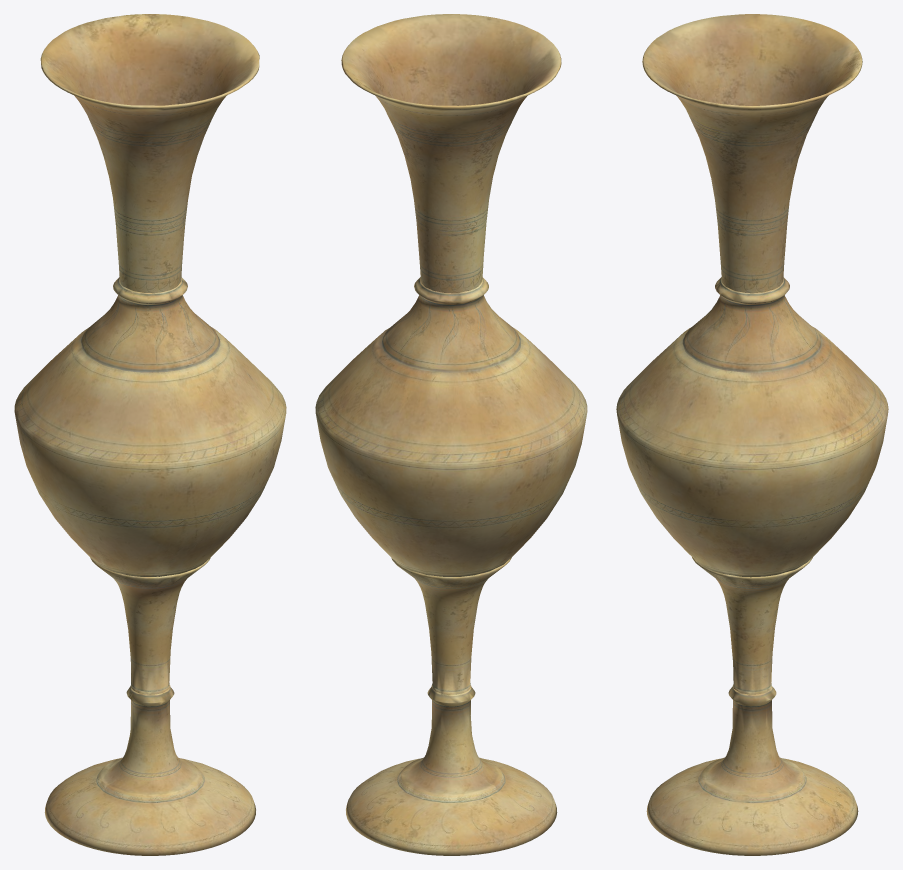
File: brass_vase_01.glb
3 views of the same model, side by side, from view 1: azimuth 30°, elevation 25°; view 2: azimuth 150°, elevation 25°; view 3: azimuth 270°, elevation 25° (orthographic).
Parts seen in each view (by area): view 1: brass_vase_01; view 2: brass_vase_01; view 3: brass_vase_01.
Boxes of the visible parts, x1,y1,x2,y2 form: brass_vase_01: (14,14,286,855); brass_vase_01: (315,14,587,855); brass_vase_01: (616,14,888,855).
Size of the model in its own units: 0.2272 by 0.6925 by 0.2272.
1 material, 1 textured.
